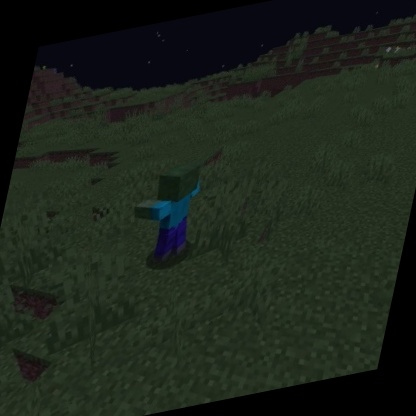zombie: (119, 156, 209, 274)
